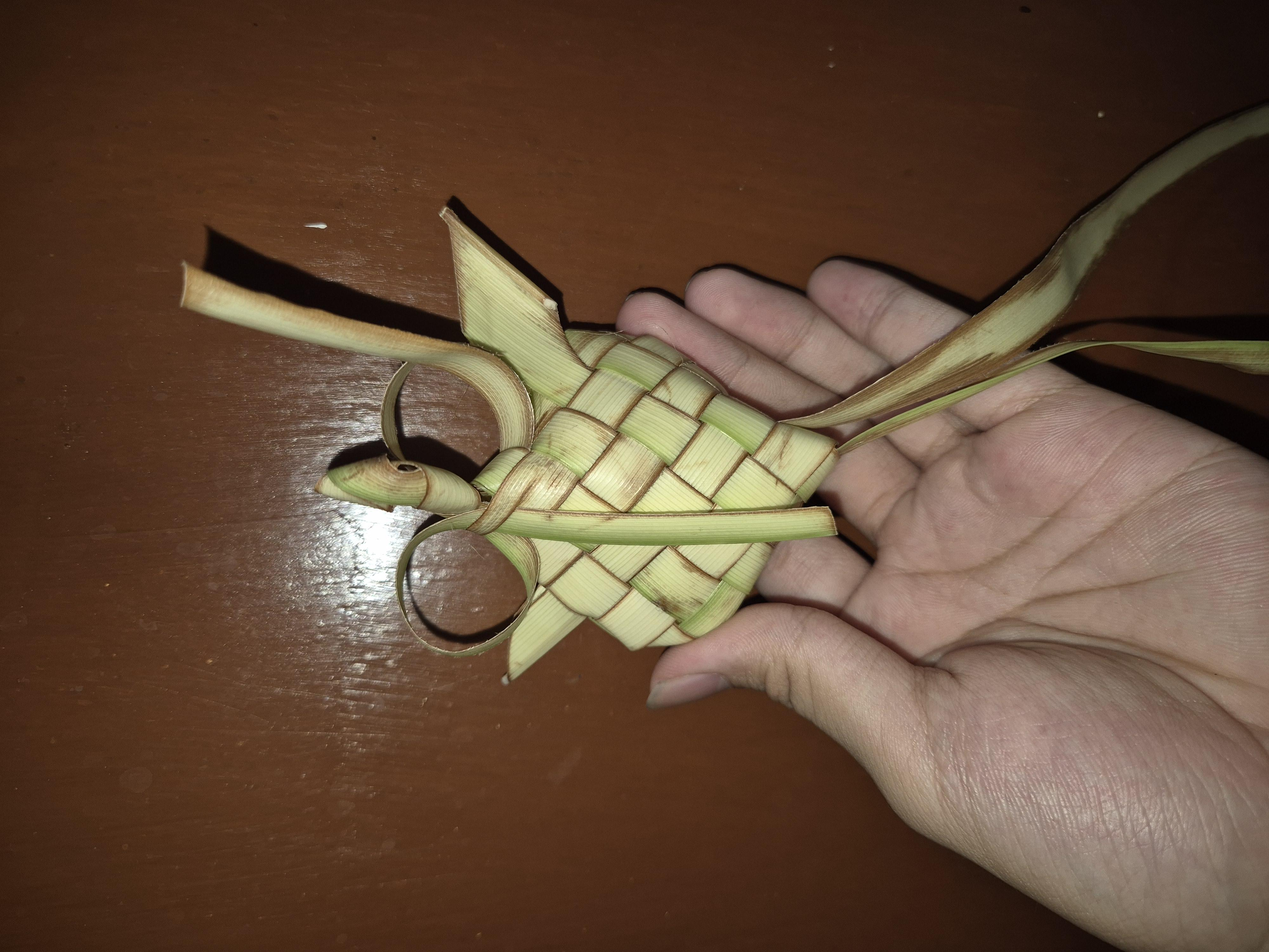Tipat Dampulan: (365, 137, 991, 628)
